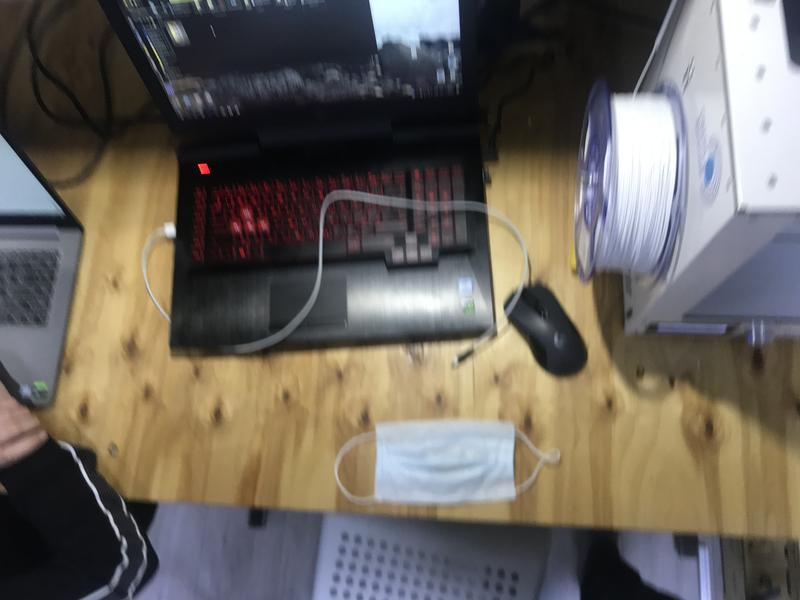medical_mask: (335, 422, 562, 506)
